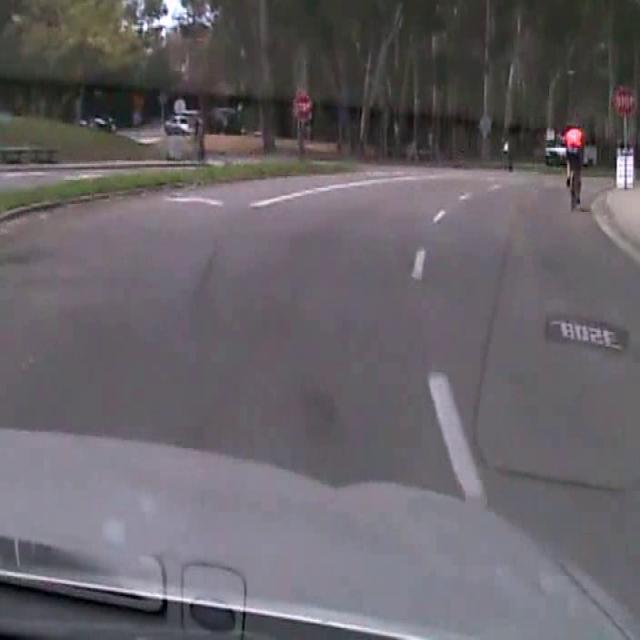stop_sign: (614, 86, 636, 118), (292, 89, 312, 120)
